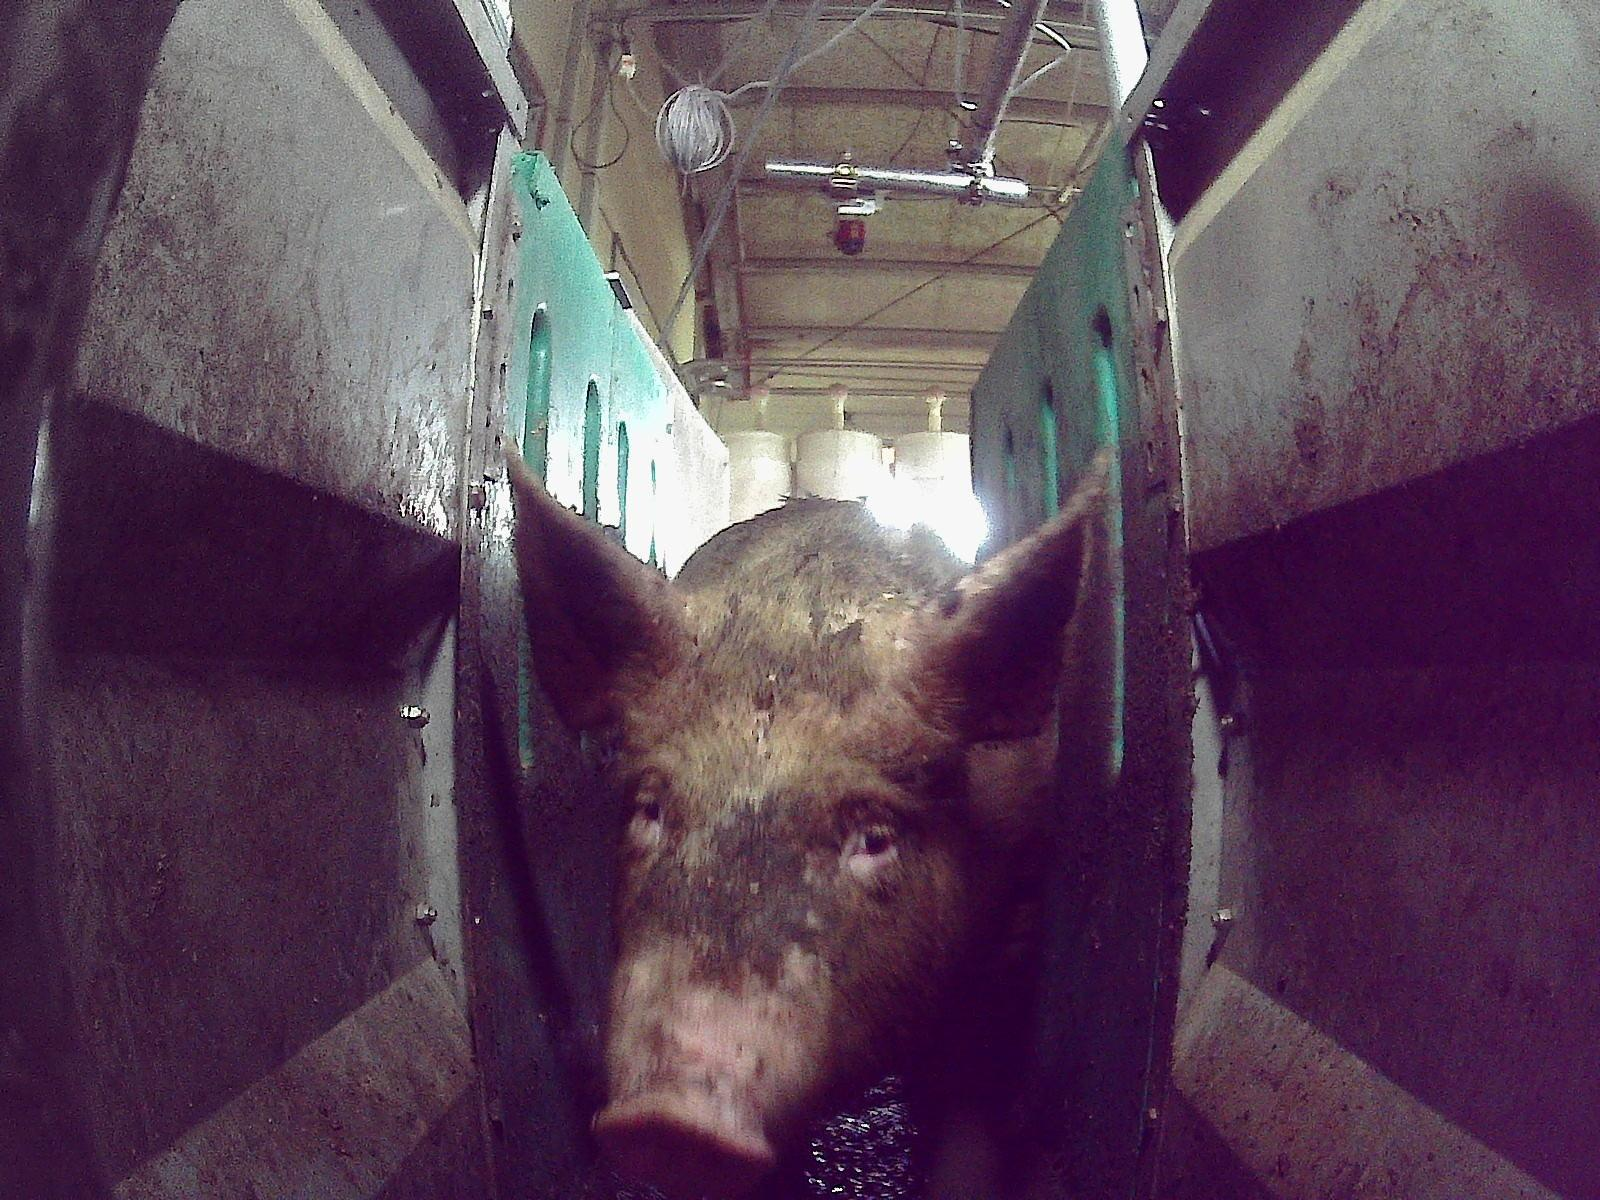Face: (588, 613, 959, 1199)
